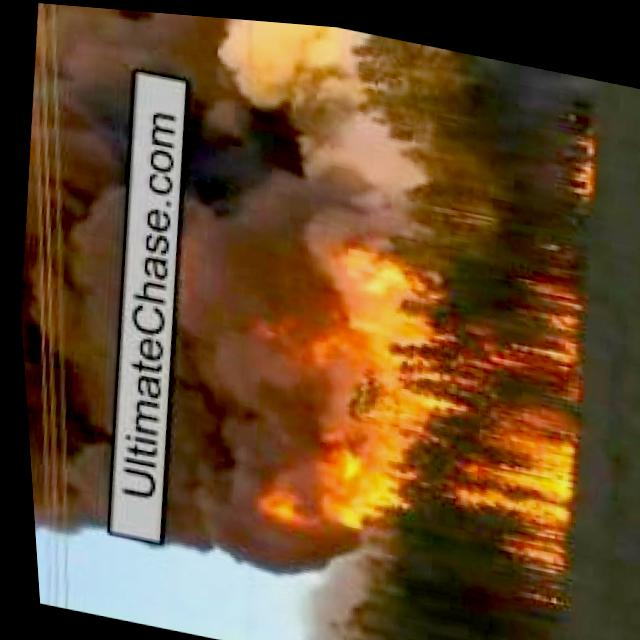Fire: (234, 211, 594, 571), (561, 115, 600, 193)
Smoke: (123, 8, 318, 568), (0, 0, 163, 553)
